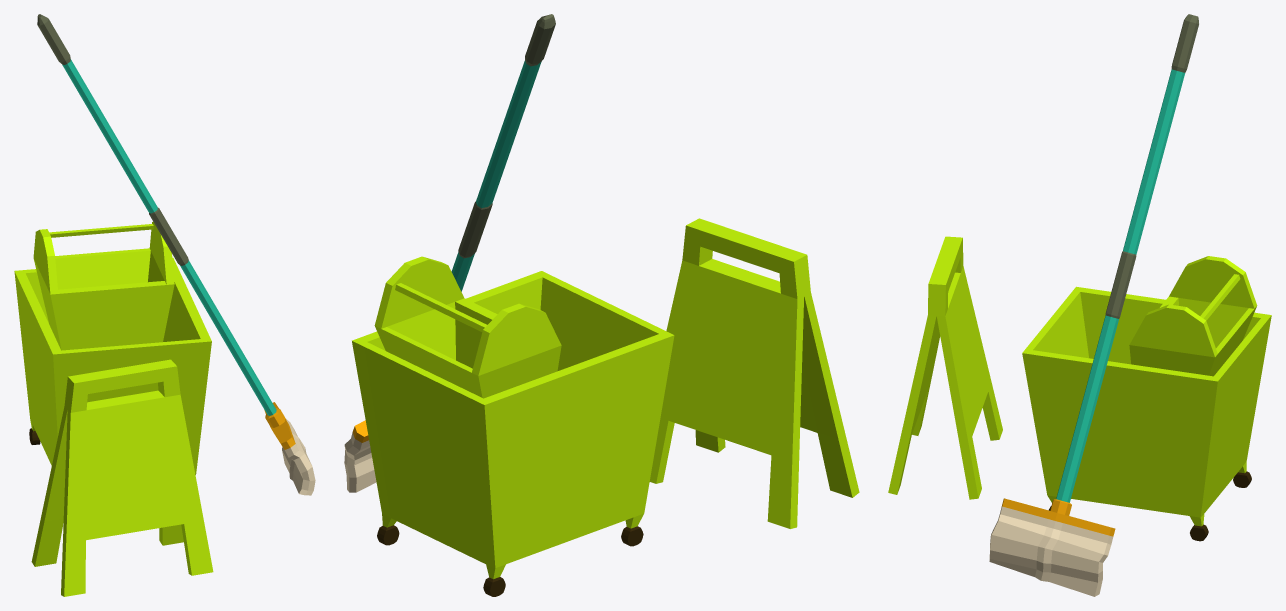
File: carrinhoLimpeza.fbx
The picture shows the model from 3 angles, left to right: view 1: azimuth 30°, elevation 25°; view 2: azimuth 150°, elevation 25°; view 3: azimuth 270°, elevation 25°; orthographic projection. The views are drawn at different scales.
Parts seen in each view (by area): view 1: Carrinho, Cube.001, Esfregao; view 2: Carrinho, Cube.001, Esfregao; view 3: Carrinho, Esfregao, Cube.001.
Part boxes in pixels (x1=…): Carrinho: x1=14, y1=222, x2=211, y2=474; Cube.001: x1=31, y1=359, x2=213, y2=596; Esfregao: x1=37, y1=14, x2=315, y2=495; Carrinho: x1=352, y1=256, x2=674, y2=596; Cube.001: x1=649, y1=218, x2=859, y2=528; Esfregao: x1=344, y1=14, x2=555, y2=492; Carrinho: x1=1022, y1=256, x2=1271, y2=541; Esfregao: x1=989, y1=14, x2=1198, y2=596; Cube.001: x1=888, y1=236, x2=1002, y2=499.
Size of the model in its own units: 517 by 715 by 520.
Materials: 1 (1 with a texture image).
